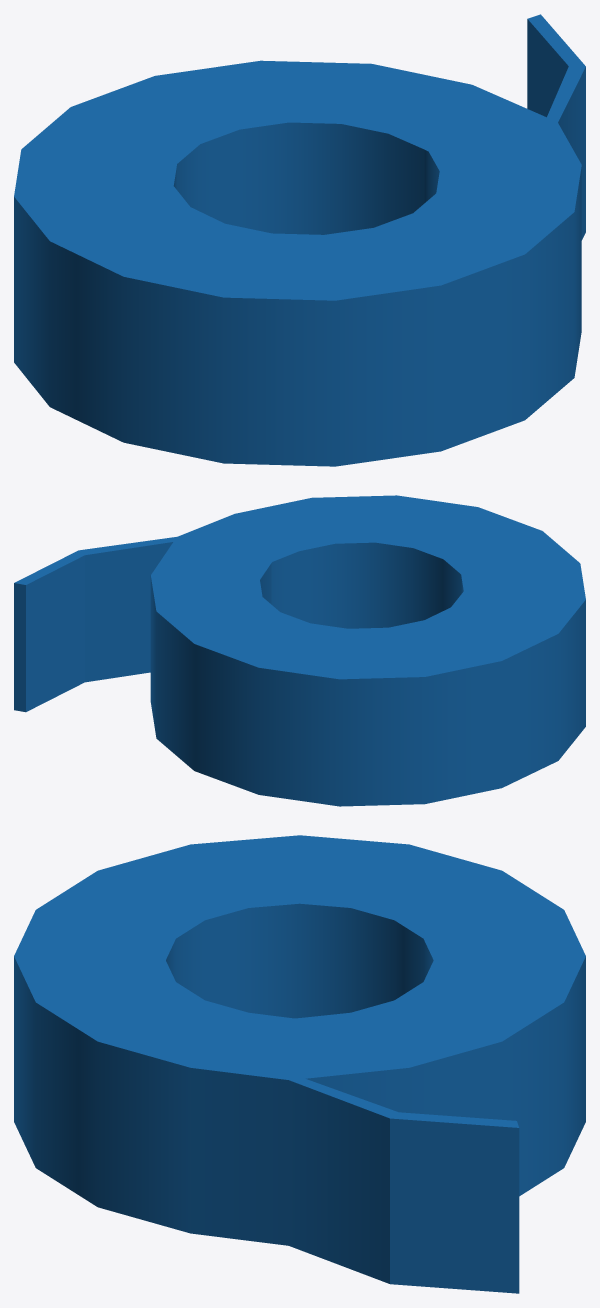
Rendered from Tape_01.fbx.
3 views of the same model, one above another, from view 1: azimuth 30°, elevation 25°; view 2: azimuth 150°, elevation 25°; view 3: azimuth 270°, elevation 25° (orthographic). The views are drawn at different scales.
Parts seen in each view (by area): view 1: Tape_01; view 2: Tape_01; view 3: Tape_01.
Part boxes in pixels (x1=…): Tape_01: x1=14, y1=14, x2=585, y2=466; Tape_01: x1=14, y1=495, x2=585, y2=806; Tape_01: x1=14, y1=835, x2=585, y2=1293.
Bounding box in the file's own units: 33.91 × 8.95 × 28.
